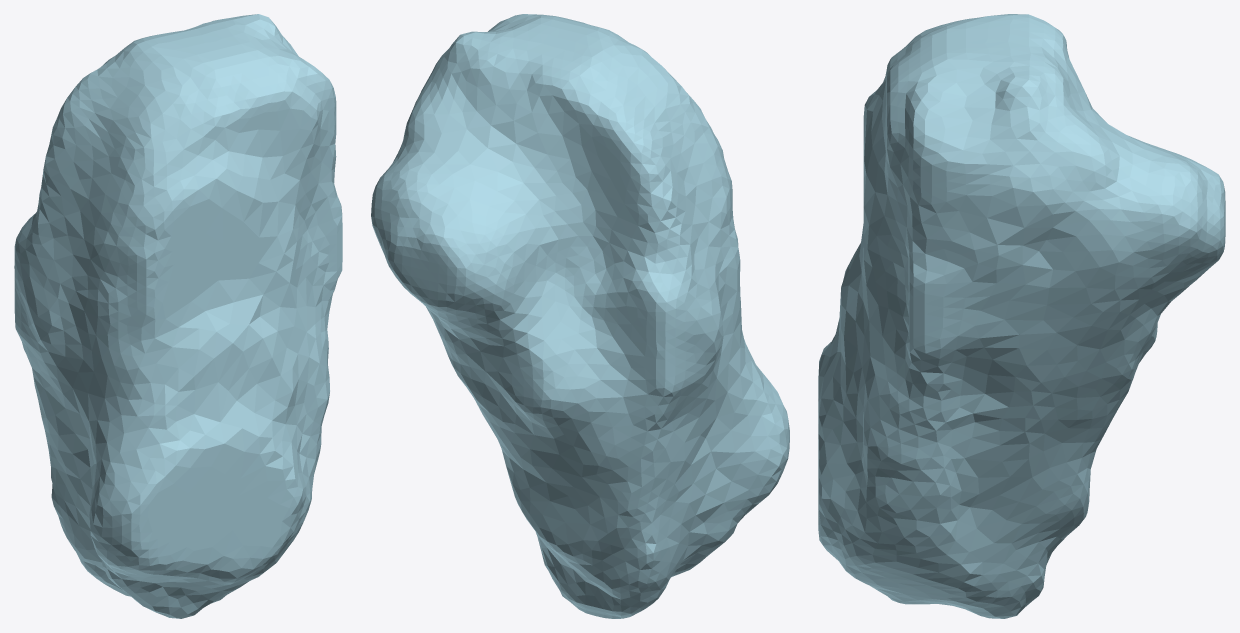
The model's file is livertumor.obj.
The picture shows the model from 3 angles, left to right: view 1: azimuth 30°, elevation 25°; view 2: azimuth 150°, elevation 25°; view 3: azimuth 270°, elevation 25°; orthographic projection. The views are drawn at different scales.
Visible parts, largest first — view 1: grp1; view 2: grp1; view 3: grp1.
Boxes of the visible parts, x1,y1,x2,y2 form: grp1: (14,14,342,618); grp1: (371,14,789,618); grp1: (818,14,1225,618).
Bounding box in the file's own units: 20.1 × 36.74 × 22.5.
